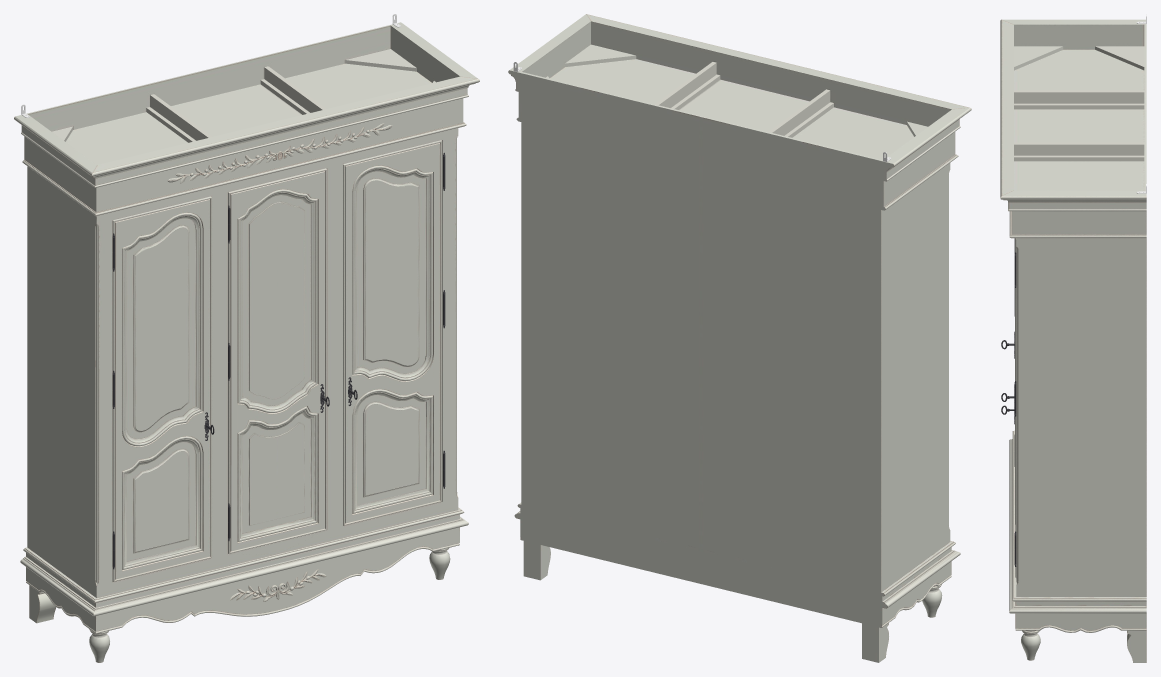
File: example146.glb
3 views of the same model, side by side, from view 1: azimuth 30°, elevation 25°; view 2: azimuth 150°, elevation 25°; view 3: azimuth 270°, elevation 25° (orthographic). The views are drawn at different scales.
Visible parts, largest first — view 1: PPAB.paint, PPAB.metal; view 2: PPAB.paint; view 3: PPAB.paint, PPAB.metal.
Part boxes in pixels (x1=…): PPAB.paint: x1=14, y1=22, x2=479, y2=662; PPAB.metal: x1=112, y1=152, x2=445, y2=569; PPAB.paint: x1=508, y1=14, x2=971, y2=662; PPAB.paint: x1=1000, y1=19, x2=1146, y2=662; PPAB.metal: x1=1001, y1=238, x2=1016, y2=566.
Bounding box in the file's own units: 1.5 × 1.9 × 0.5217.
Materials: 3 (2 with a texture image).
